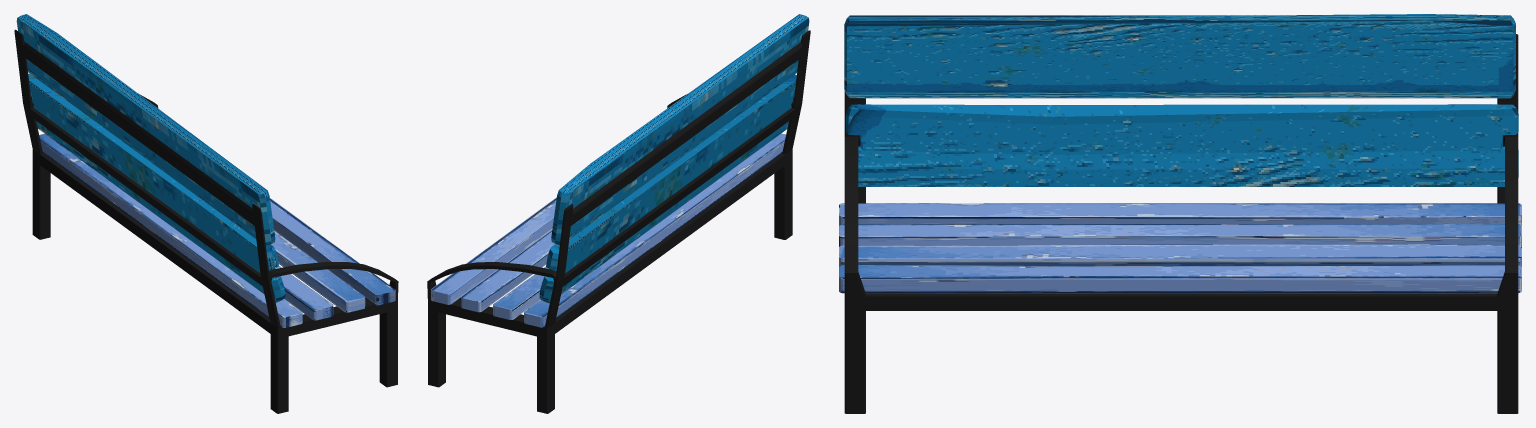
Rendered from lavka.mtl.obj.
The picture shows the model from 3 angles, left to right: view 1: azimuth 30°, elevation 25°; view 2: azimuth 150°, elevation 25°; view 3: azimuth 270°, elevation 25°; orthographic projection. The views are drawn at different scales.
Parts seen in each view (by area): view 1: Cube.001, Куб, Cube; view 2: Cube.001, Куб, Cube; view 3: Cube.001, Cube, Куб.
Boxes of the visible parts, <box> form: Cube.001: <box>16,14,285,302</box>; Куб: <box>14,29,398,413</box>; Cube: <box>39,133,395,327</box>; Cube.001: <box>539,14,809,303</box>; Куб: <box>427,30,810,413</box>; Cube: <box>431,130,785,327</box>; Cube.001: <box>844,14,1518,186</box>; Cube: <box>839,203,1521,293</box>; Куб: <box>844,34,1518,413</box>.
Bounding box in the file's own units: 1.57 × 2.45 × 4.84.
